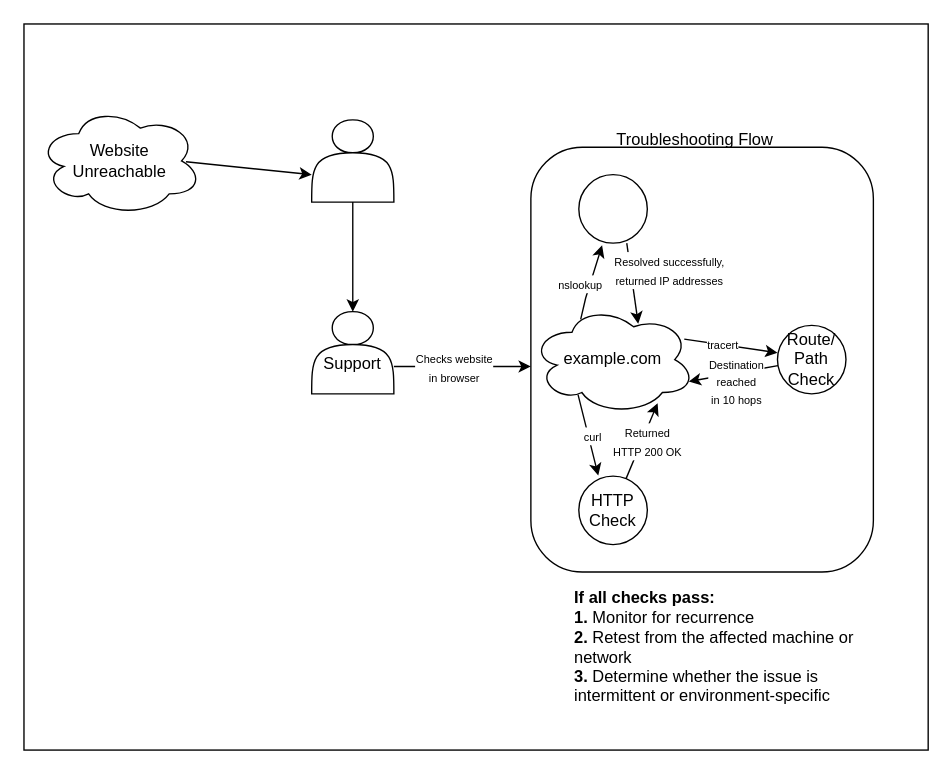
Image size: 952x774. Some labels were removed from this diagram. The centre of each missing label's shape, as x and y in pixels:
DNS Check: the point at 612,208
User: the point at 352,160
